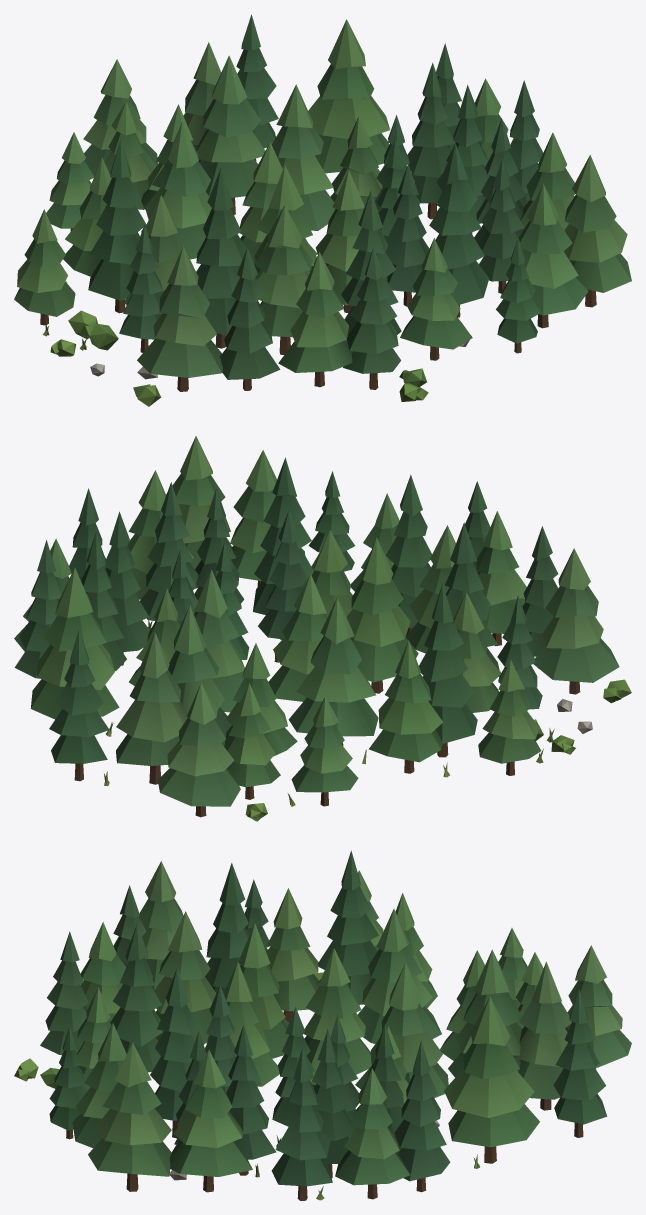
The model's file is forest_conifer_a.glb.
The picture shows the model from 3 angles, top to bottom: view 1: azimuth 30°, elevation 25°; view 2: azimuth 150°, elevation 25°; view 3: azimuth 270°, elevation 25°; orthographic projection. The views are drawn at different scales.
Visible parts, largest first — view 1: forest_conifer_a; view 2: forest_conifer_a; view 3: forest_conifer_a.
Boxes of the visible parts, x1,y1,x2,y2 form: forest_conifer_a: (14,14,631,406); forest_conifer_a: (14,436,631,821); forest_conifer_a: (14,850,631,1200).
Size of the model in its own units: 16.1 by 5.48 by 17.28.
